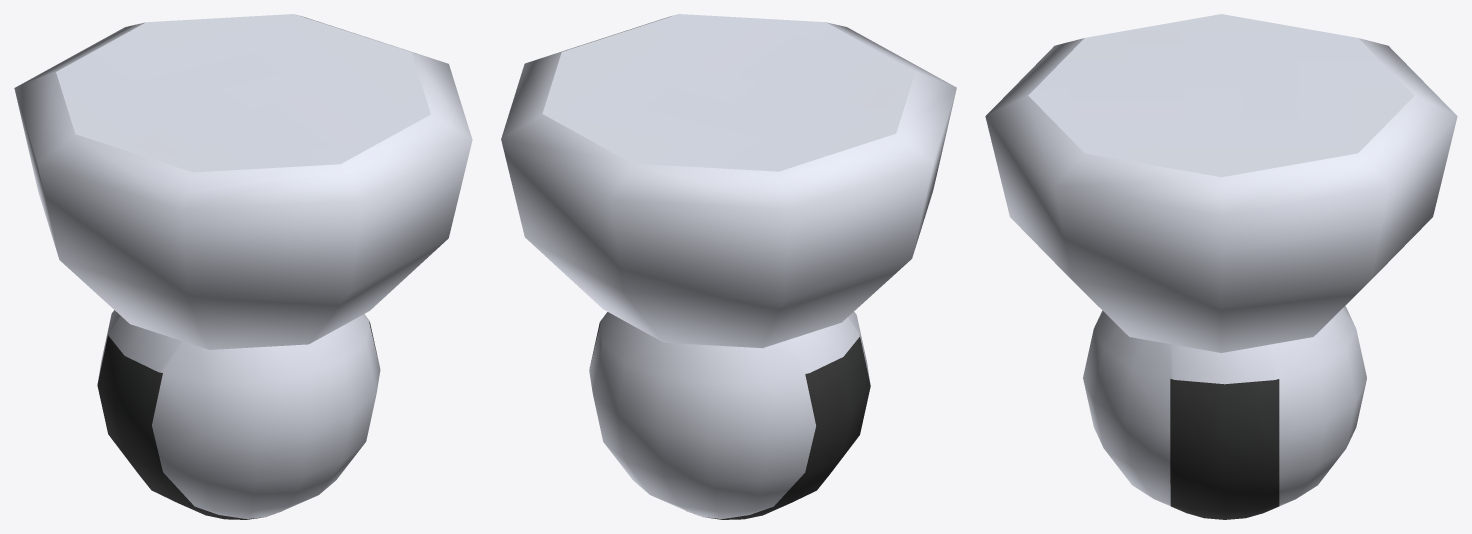
The picture shows the model from 3 angles, left to right: view 1: azimuth 30°, elevation 25°; view 2: azimuth 150°, elevation 25°; view 3: azimuth 270°, elevation 25°; orthographic projection.
Visible parts, largest first — view 1: VTV车型横洞摄像机; view 2: VTV车型横洞摄像机; view 3: VTV车型横洞摄像机.
Part boxes in pixels (bbox=[...]): VTV车型横洞摄像机: bbox=[14, 14, 472, 519]; VTV车型横洞摄像机: bbox=[501, 14, 956, 519]; VTV车型横洞摄像机: bbox=[985, 14, 1457, 519].
Bounding box in the file's own units: 0.723 × 0.6968 × 0.723.
2 materials, 2 textured.
